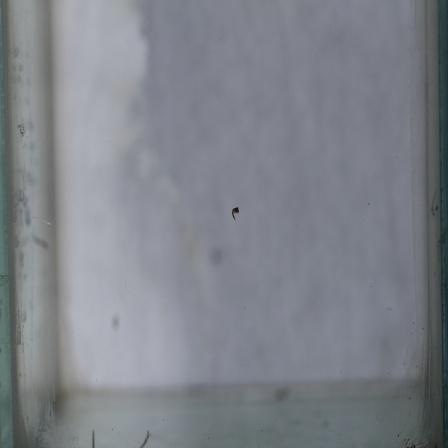Jentik-Nyamuk: (227, 202, 243, 221)
